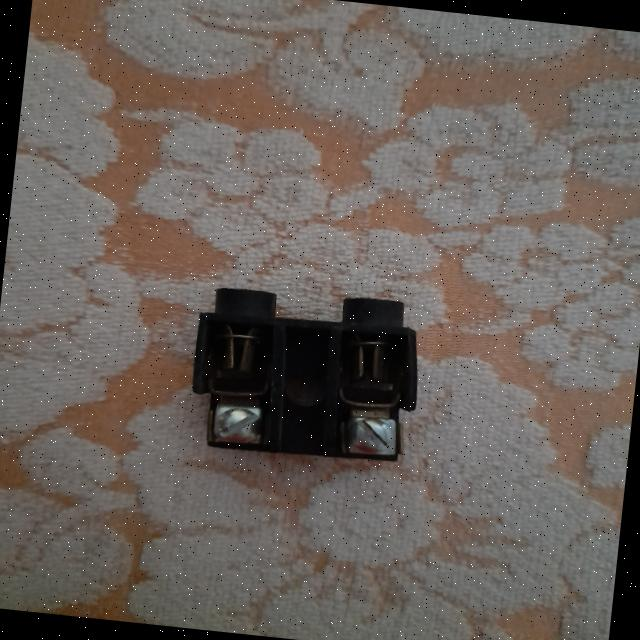Slotted: (346, 415, 396, 455), (212, 406, 262, 444)
